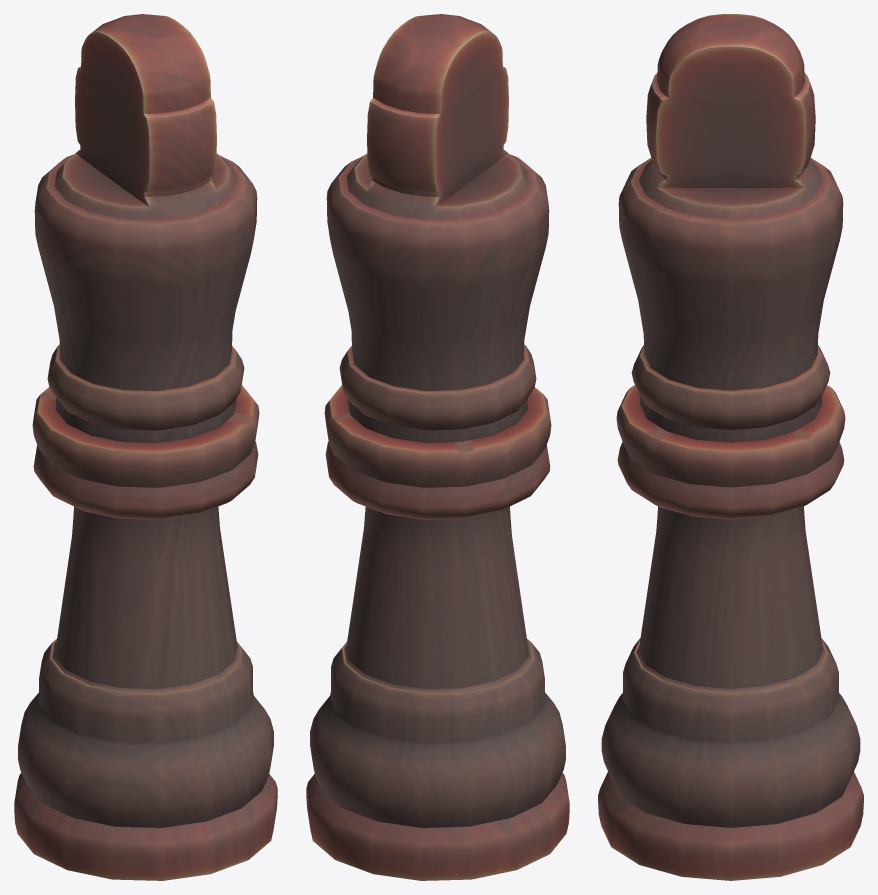
File: Король.fbx
3 views of the same model, side by side, from view 1: azimuth 30°, elevation 25°; view 2: azimuth 150°, elevation 25°; view 3: azimuth 270°, elevation 25° (orthographic).
Parts seen in each view (by area): view 1: Король белый; view 2: Король белый; view 3: Король белый.
Boxes of the visible parts, left/top/right/bottom form: Король белый: left=14, top=14, right=277, bottom=880; Король белый: left=306, top=14, right=569, bottom=880; Король белый: left=598, top=14, right=863, bottom=880.
Bounding box in the file's own units: 205 × 680 × 205.
Materials: 1 (1 with a texture image).
